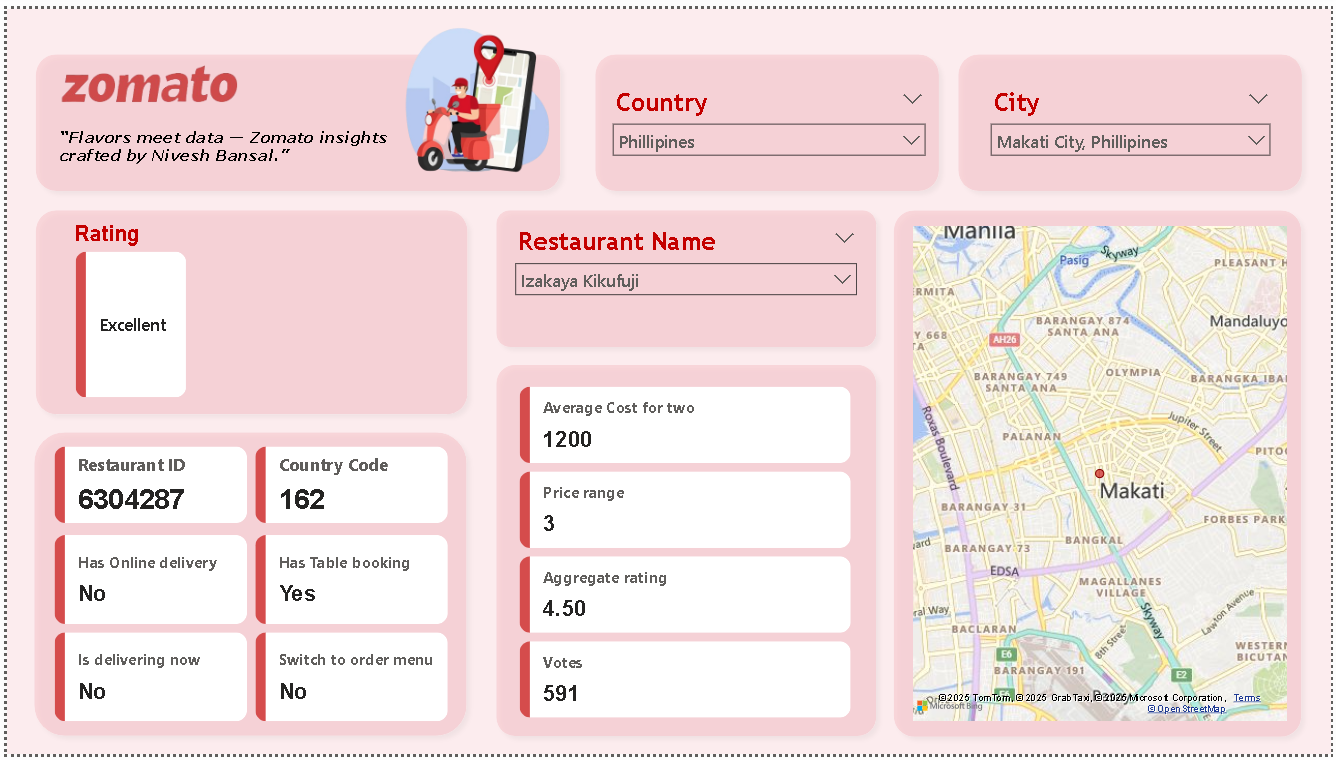

The page's visual inventory and layout, read from the dashboard file:
{"tool":"powerbi","page":{"name":"Page 1","canvas":[1280,720],"ordinal":0},"visuals":[{"type":"shape","box":[18.3,35,525,150],"z":0},{"type":"image","box":[361.7,0,181.7,173.3],"z":1000},{"type":"image","box":[40,45,193.3,65],"z":2000},{"type":"shape","box":[560,35,350,150],"z":3000},{"type":"slicer","fields":{"Values":["Sheet1.Country"]},"box":[575,70,321.7,103.3],"z":4000},{"type":"shape","box":[910,35,350,150],"z":5000},{"type":"slicer","fields":{"Values":["Sheet1.CityCountry"]},"box":[940,70,290,80],"z":6000},{"type":"shape","box":[18.3,185,435,215],"z":7000},{"type":"advancedSlicerVisual","title":"Rating","fields":{"Values":["Sheet1.Rating text"]},"box":[60.2,204.9,349.7,175.7],"z":8000},{"type":"shape","box":[16.7,400,435.6,311.1],"z":9000},{"type":"cardVisual","fields":{"Data":["Min(Sheet1.Has Online delivery)","Min(Sheet1.Has Table booking)","Min(Sheet1.Is delivering now)","Min(Sheet1.Switch to order menu)"]},"box":[40.7,502.6,390.4,190.3],"z":10000},{"type":"shape","box":[463.3,185,385,150],"z":11000},{"type":"slicer","fields":{"Values":["Sheet1.Restaurant Name"]},"box":[481.7,205,350,80],"z":12000},{"type":"cardVisual","fields":{"Data":["Min(Sheet1.Restaurant ID)","Min(Sheet1.Country Code)"]},"box":[40.7,418,390.4,84.6],"z":13000},{"type":"shape","box":[848.3,185,411.7,526.7],"z":14000},{"type":"map","fields":{"Category":["Sheet1.Address"],"X":["Min(Sheet1.Longitude)"],"Y":["Min(Sheet1.Latitude)"]},"box":[870,205,371.7,488.3],"z":15001},{"type":"shape","box":[463.3,335,385,376.7],"z":15002},{"type":"cardVisual","fields":{"Data":["Min(Sheet1.Average Cost for two)","Min(Sheet1.Price range)","Min(Sheet1.Aggregate rating)","Min(Sheet1.Votes)"]},"box":[490,360,330,333.3],"z":15003}]}

Visuals, with their boxes in screenshot pixels (x1, y1, x2, y2), scaled from the page's 1280x720 canvas onto the 1336x760 screenshot:
shape: <region>19, 37, 567, 195</region>
image: <region>378, 0, 567, 183</region>
image: <region>42, 48, 244, 116</region>
shape: <region>584, 37, 950, 195</region>
slicer - Sheet1.Country: <region>600, 74, 936, 183</region>
shape: <region>950, 37, 1315, 195</region>
slicer - Sheet1.CityCountry: <region>981, 74, 1284, 158</region>
shape: <region>19, 195, 473, 422</region>
"Rating" advancedSlicerVisual: <region>63, 216, 428, 402</region>
shape: <region>17, 422, 472, 751</region>
cardVisual - Min(Sheet1.Has Online delivery) x Min(Sheet1.Has Table booking): <region>42, 531, 450, 731</region>
shape: <region>484, 195, 885, 354</region>
slicer - Sheet1.Restaurant Name: <region>503, 216, 868, 301</region>
cardVisual - Min(Sheet1.Restaurant ID) x Min(Sheet1.Country Code): <region>42, 441, 450, 531</region>
shape: <region>885, 195, 1315, 751</region>
map - Sheet1.Address x Min(Sheet1.Longitude): <region>908, 216, 1296, 732</region>
shape: <region>484, 354, 885, 751</region>
cardVisual - Min(Sheet1.Average Cost for two) x Min(Sheet1.Price range): <region>511, 380, 856, 732</region>
